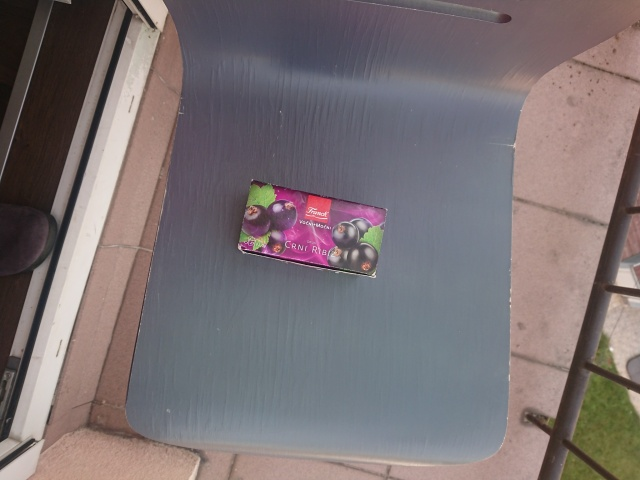Franck Black Currant Tea 60g: (235, 176, 390, 281)
